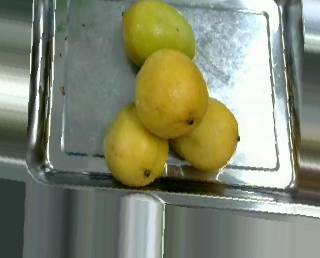Mango: (136, 49, 208, 138), (102, 102, 169, 184), (171, 96, 237, 171), (122, 1, 195, 67)
